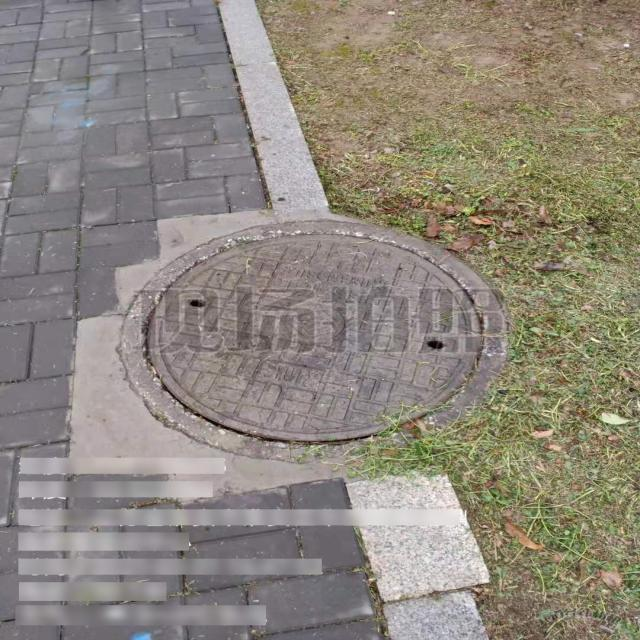Good: (119, 221, 504, 461)
